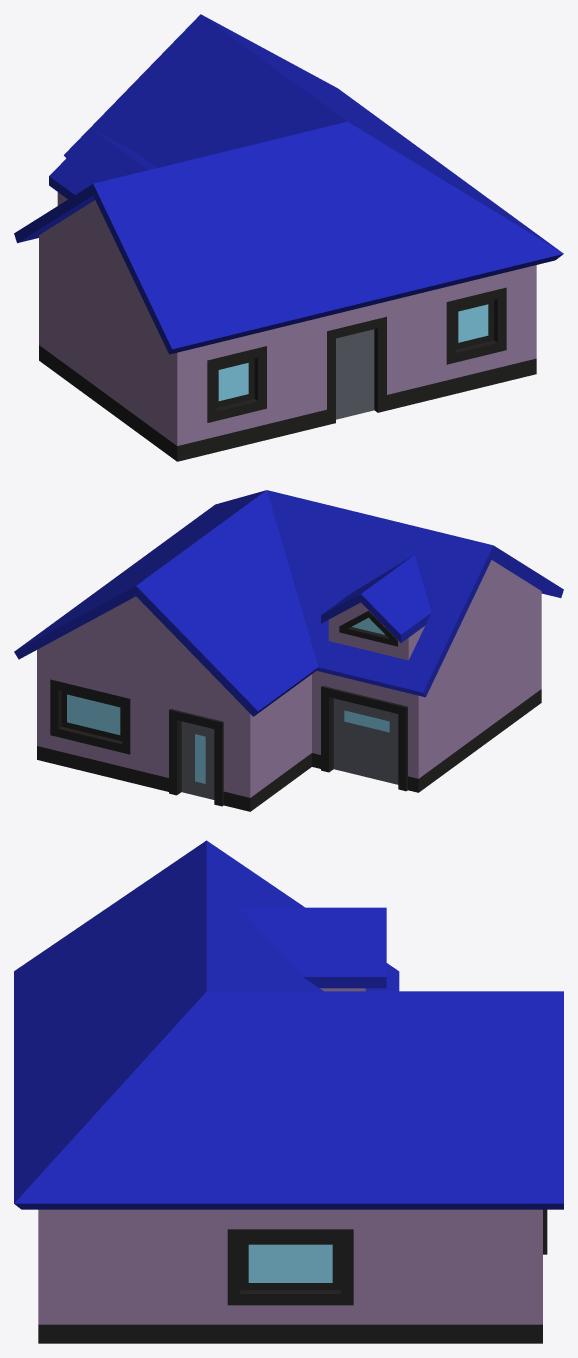
File: insta_residential_concrete_1.obj
3 renders of one model, top to bottom at view 1: azimuth 30°, elevation 25°; view 2: azimuth 150°, elevation 25°; view 3: azimuth 270°, elevation 25°, orthographic. The views are drawn at different scales.
Parts seen in each view (by area): view 1: city_residential_1_roof(Clone), city_residential_1__defaultMat(Clone), city_residential_1_border(Clone), city_residential_1_door(Clone), city_residential_1_window(Clone); view 2: city_residential_1_roof(Clone), city_residential_1__defaultMat(Clone), city_residential_1_border(Clone), city_residential_1_door(Clone), city_residential_1_window(Clone); view 3: city_residential_1_roof(Clone), city_residential_1__defaultMat(Clone), city_residential_1_border(Clone), city_residential_1_window(Clone).
Boxes of the visible parts, x1,y1,x2,y2 form: city_residential_1_roof(Clone): [14, 14, 563, 354]; city_residential_1__defaultMat(Clone): [39, 192, 536, 445]; city_residential_1_border(Clone): [39, 287, 536, 461]; city_residential_1_door(Clone): [336, 329, 374, 419]; city_residential_1_window(Clone): [218, 304, 488, 401]; city_residential_1_roof(Clone): [14, 490, 563, 716]; city_residential_1__defaultMat(Clone): [37, 560, 541, 797]; city_residential_1_border(Clone): [37, 611, 541, 811]; city_residential_1_door(Clone): [181, 698, 398, 799]; city_residential_1_window(Clone): [67, 617, 389, 783]; city_residential_1_roof(Clone): [14, 840, 563, 1209]; city_residential_1__defaultMat(Clone): [38, 988, 542, 1324]; city_residential_1_border(Clone): [38, 1209, 547, 1343]; city_residential_1_window(Clone): [248, 1244, 332, 1282].
Size of the model in its own units: 0.9418 by 0.531 by 0.9418.
